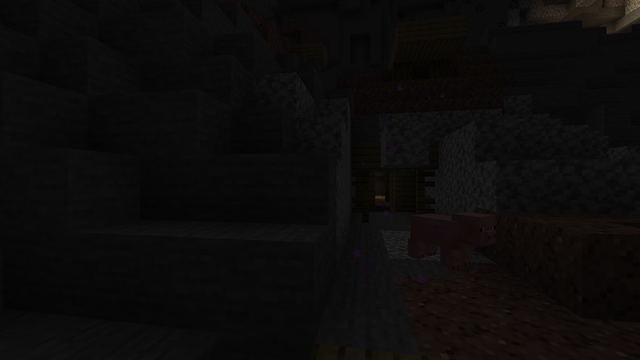cochons: (413, 212, 474, 269)
